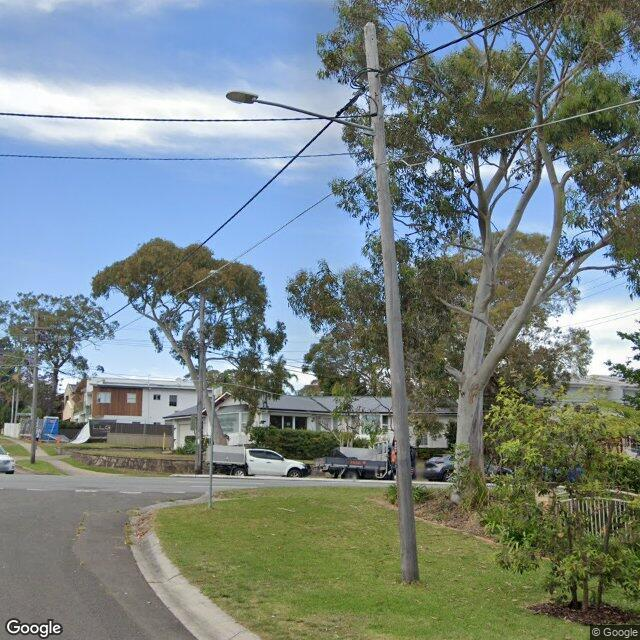streetlight: (226, 91, 375, 135)
timber-pole: (364, 22, 420, 584), (29, 312, 39, 464)
